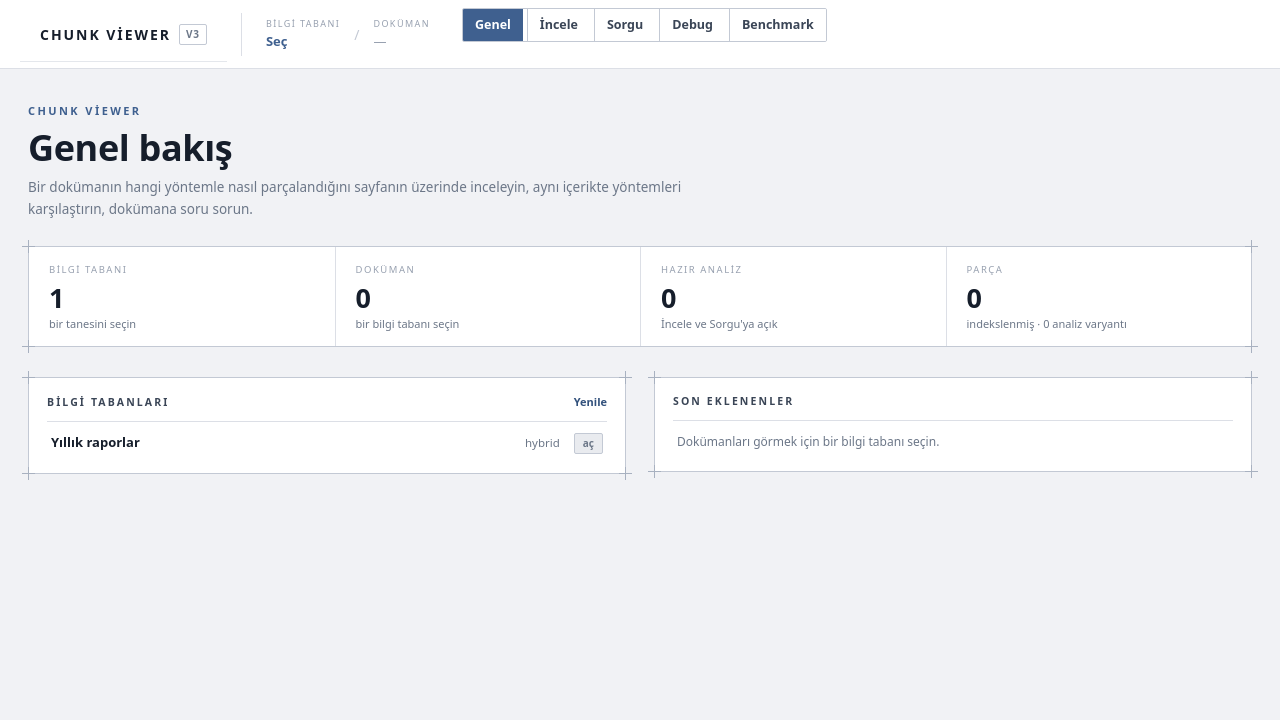
it: Viewer › compares two methods on the same text and counts where they differ
Click the tab "İncele".
click(558, 25)  # box [527, 9, 590, 41]
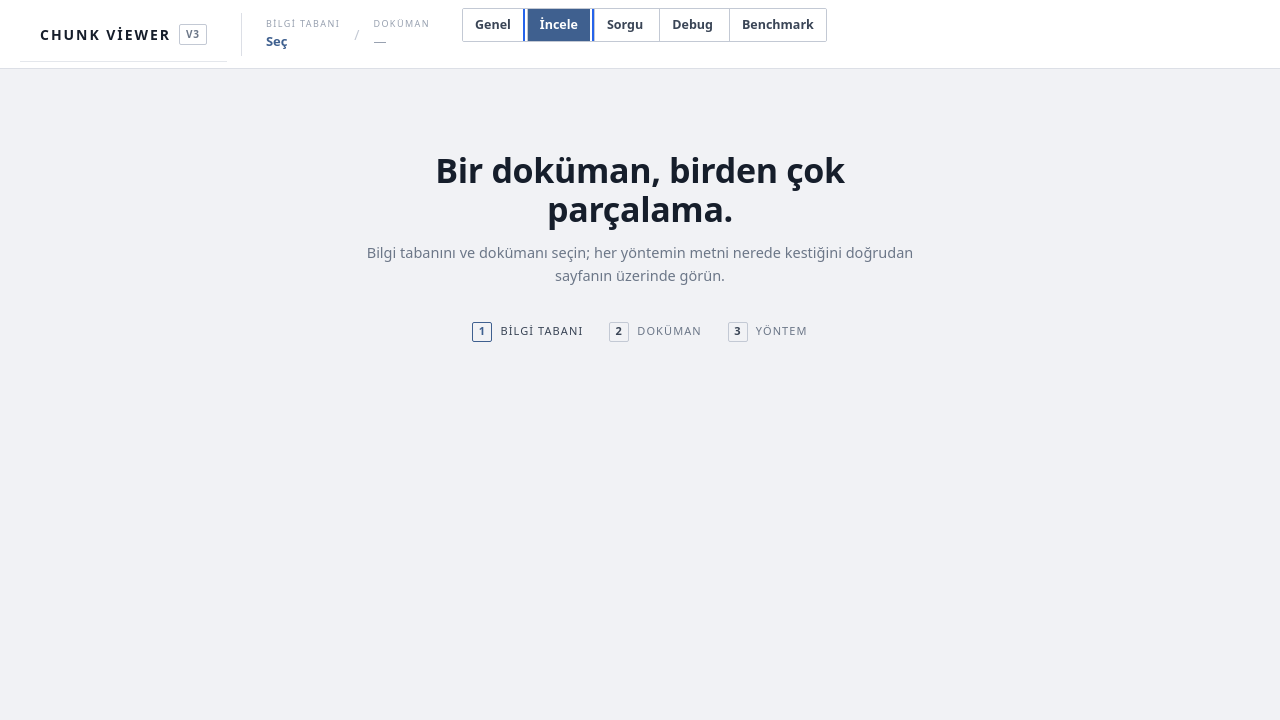
Click the button "Bilgi tabanı Seç".
click(303, 34)  # box [256, 12, 350, 56]
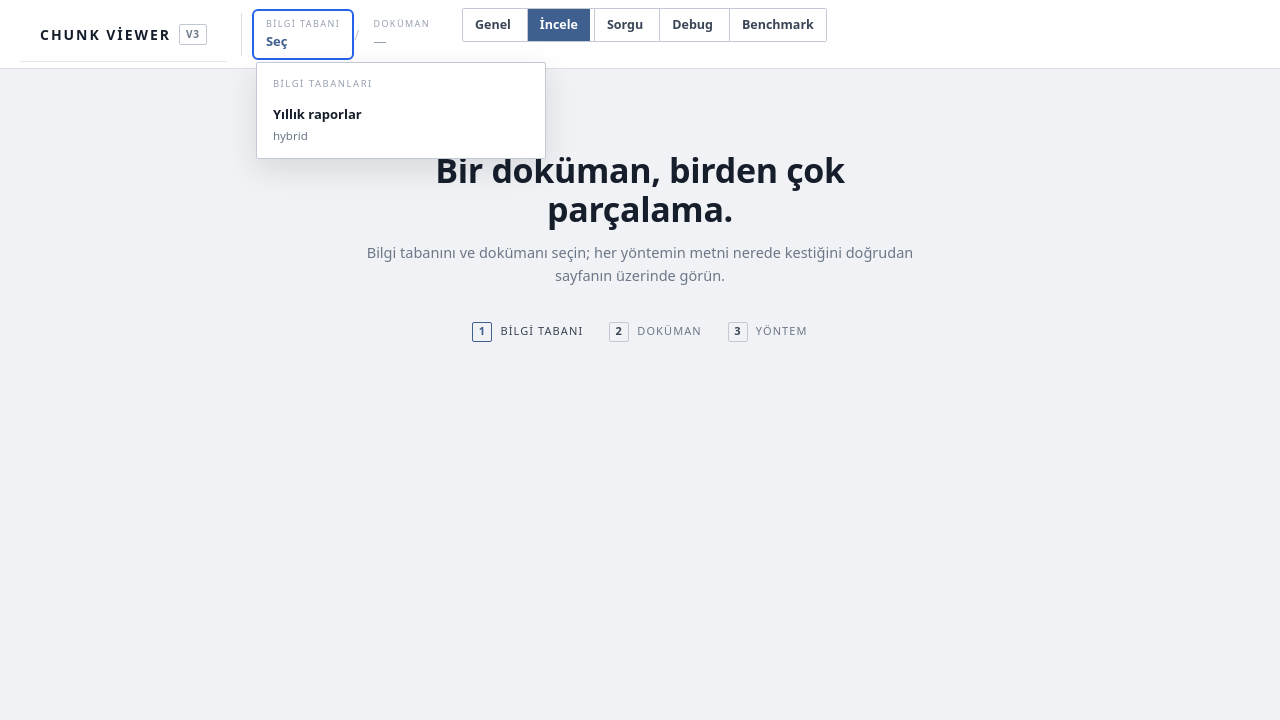
Click the text "Yıllık raporlar".
click(317, 114)  # box [273, 105, 362, 123]
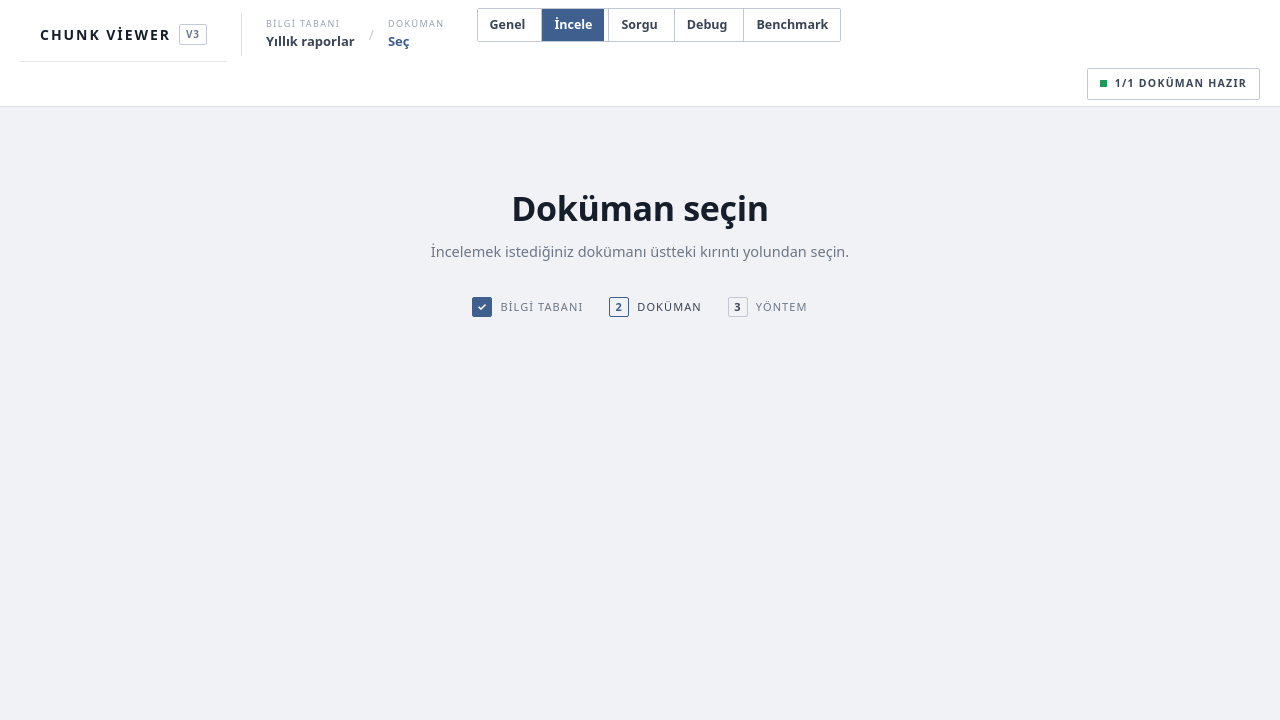
Click the button "Doküman Seç".
click(416, 34)  # box [378, 12, 454, 56]
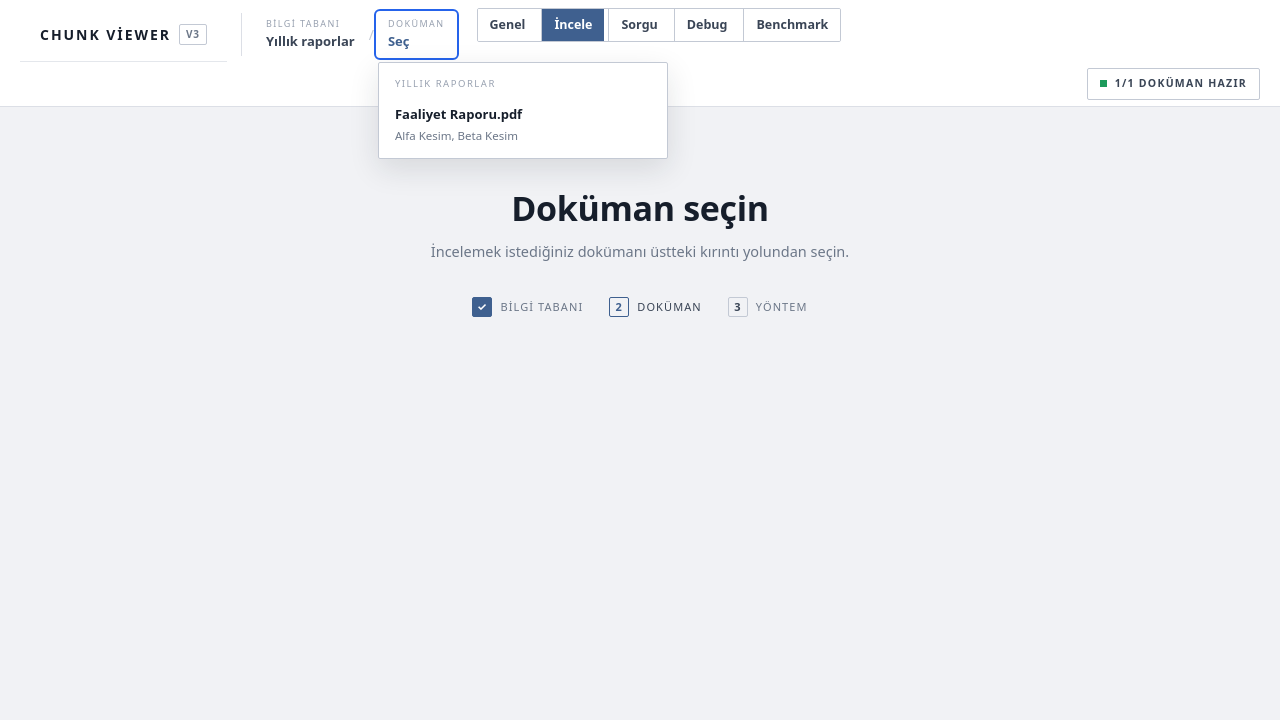
Click the text "Faaliyet Raporu.pdf".
click(458, 114)  # box [395, 105, 522, 123]
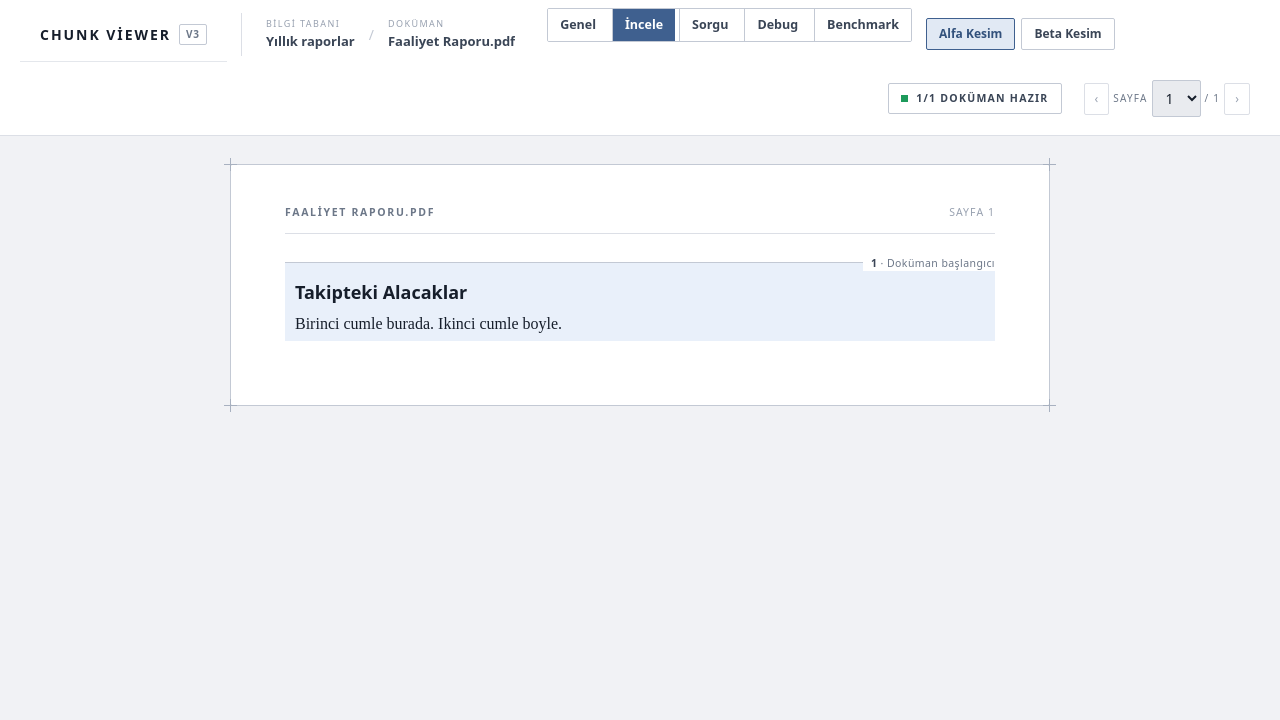
Click the button "Beta Kesim".
click(1068, 34)  # box [1021, 18, 1115, 50]
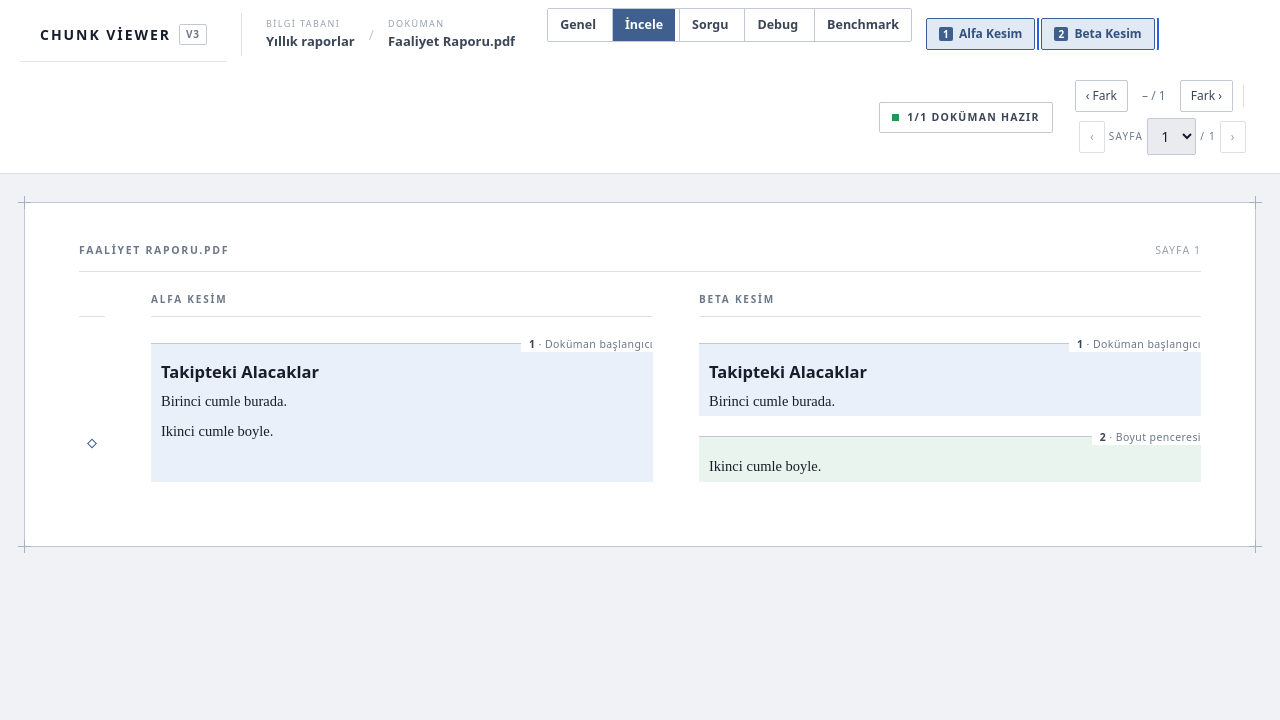
Check: the text "– / 1" is shown, box [1142, 87, 1166, 104]
